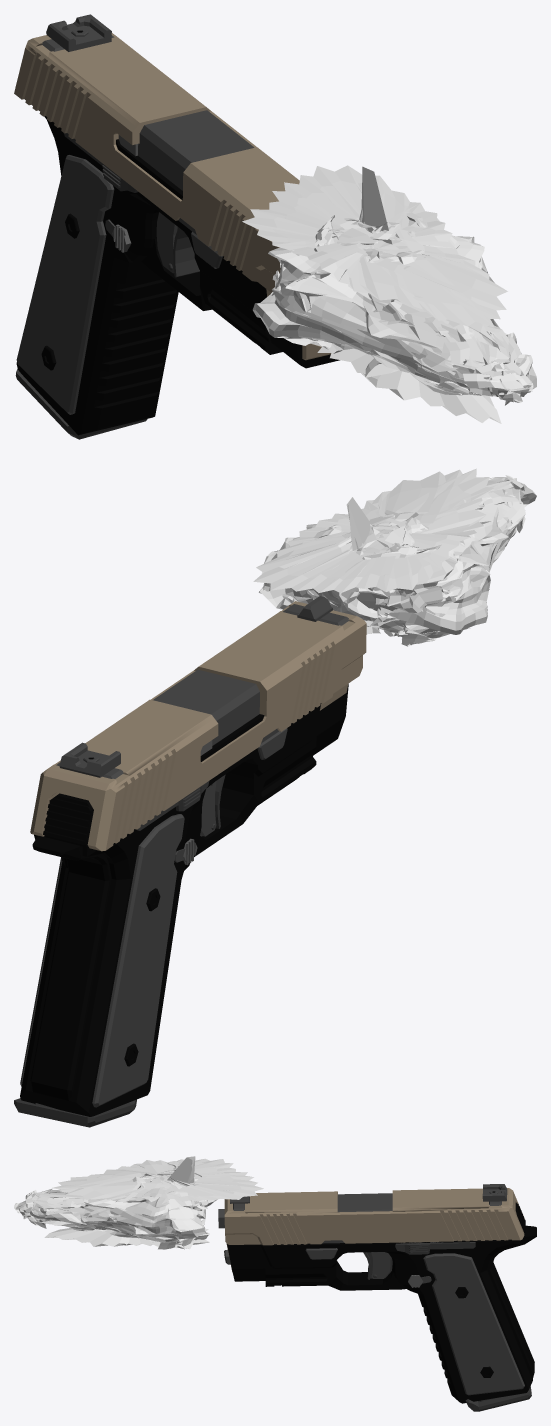
The model's file is Double_Hand_Pistol_Reload 3.fbx.
3 views of the same model, one above another, from view 1: azimuth 30°, elevation 25°; view 2: azimuth 150°, elevation 25°; view 3: azimuth 270°, elevation 25° (orthographic). The views are drawn at different scales.
Visible parts, largest first — view 1: Sphere, Pistol_L_Receiver, Pistol_L_BarrelGuard, Pistol_L_Sight, Pistol_L_Trigger, Pistol_L_Mag; view 2: Pistol_L_Receiver, Pistol_L_BarrelGuard, Sphere, Pistol_L_Sight, Pistol_L_Mag, Pistol_L_Trigger; view 3: Pistol_L_Receiver, Pistol_L_BarrelGuard, Sphere, Pistol_L_Sight, Pistol_L_Trigger, Pistol_L_Mag.
Part boxes in pixels (x1,y1,x2,y2): Sphere: (242,165,536,423); Pistol_L_Receiver: (16,116,339,435); Pistol_L_BarrelGuard: (14,33,331,360); Pistol_L_Sight: (41,14,114,51); Pistol_L_Trigger: (156,212,199,277); Pistol_L_Mag: (15,369,147,439); Pistol_L_Receiver: (20,684,348,1116); Pistol_L_BarrelGuard: (30,601,366,851); Sphere: (253,468,536,646); Pistol_L_Sight: (56,596,349,778); Pistol_L_Mag: (14,1098,136,1127); Pistol_L_Trigger: (200,774,225,836); Pistol_L_Receiver: (224,1225,536,1403); Pistol_L_BarrelGuard: (224,1188,525,1271); Sphere: (14,1156,263,1249); Pistol_L_Sight: (230,1184,507,1210); Pistol_L_Trigger: (363,1252,392,1279); Pistol_L_Mag: (465,1386,531,1411).
Size of the model in its own units: 584 by 1144 by 2223.
